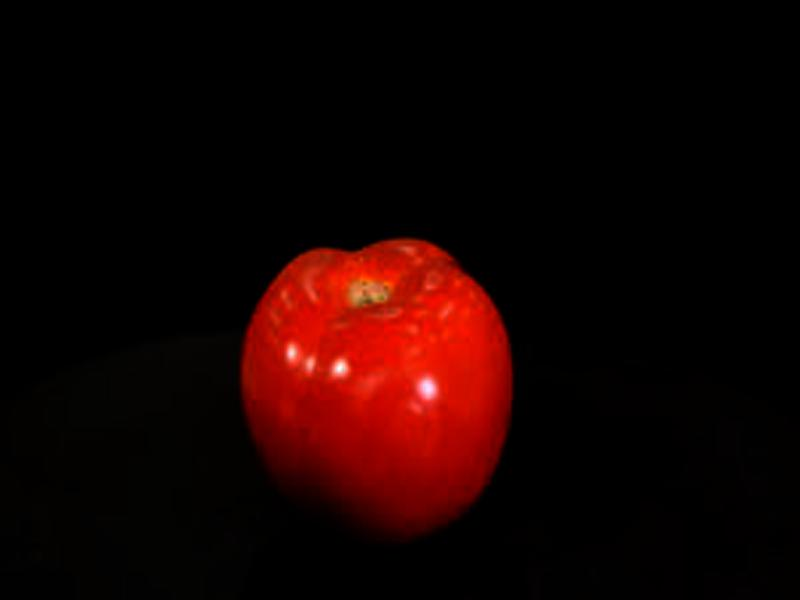Tomato: (237, 232, 517, 546)
